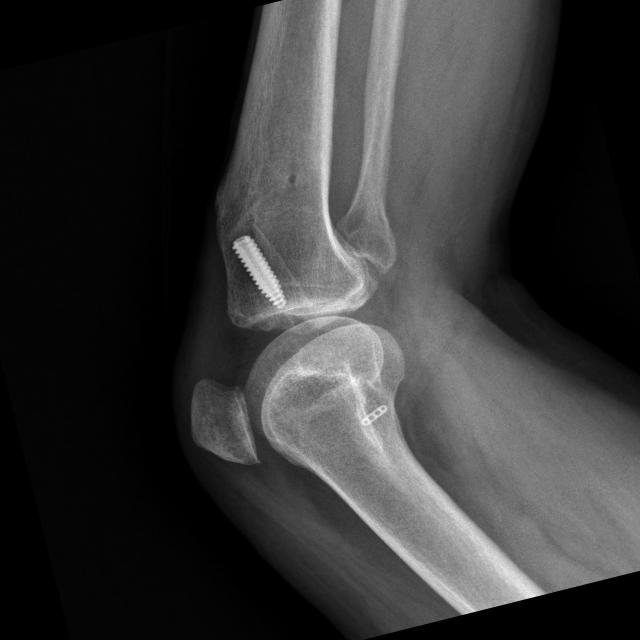Knee: (150, 209, 428, 486)
